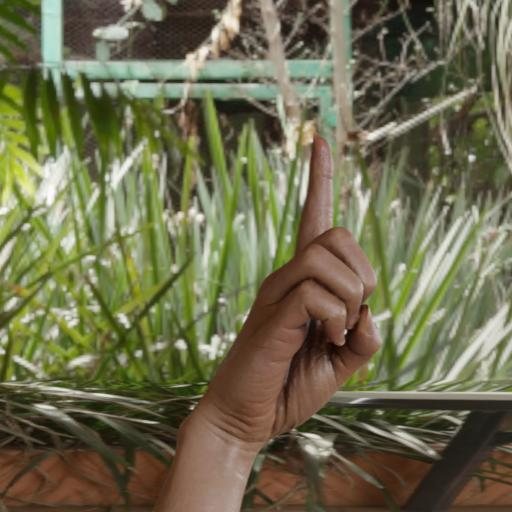D: (196, 101, 405, 451)
